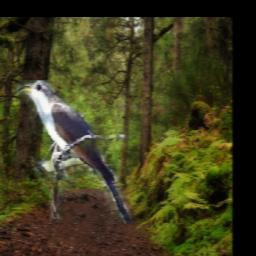Cuckoo: (18, 80, 132, 224)
